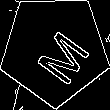M_NW: (23, 16, 87, 83)
